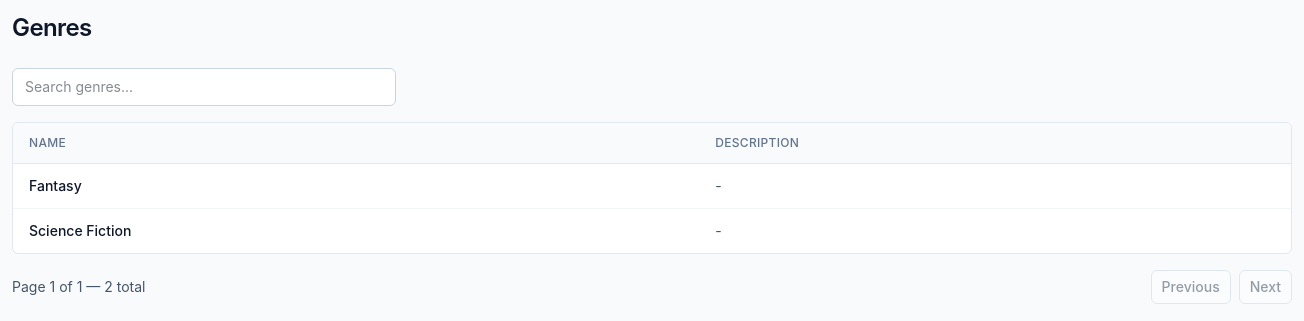
Test: List behaviour › filters the list by the search term
expect the link "Science Fiction" is shown: met, box [29,222,131,239]
Type "Fantasy" into the search field at coordinates (204, 87), box [12,68,396,106]
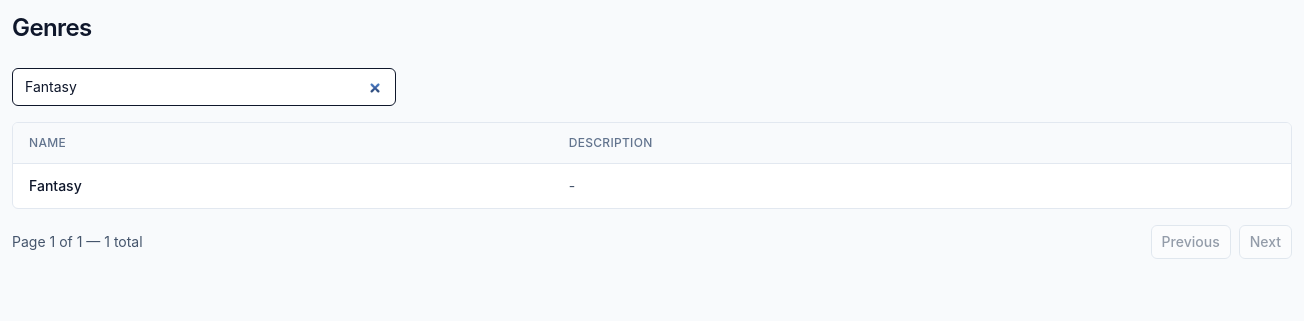
expect the link "Fantasy" is shown: met, box [29,177,82,194]
expect the link "Science Fiction" is gone: met
